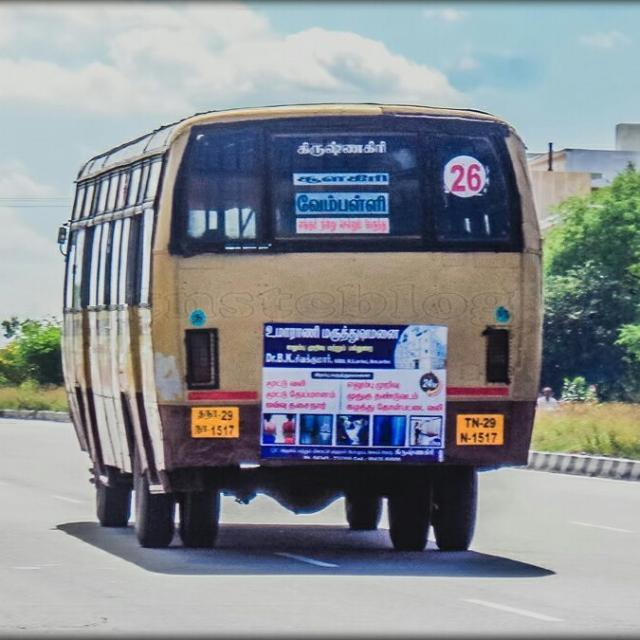Bus: (51, 99, 550, 552)
